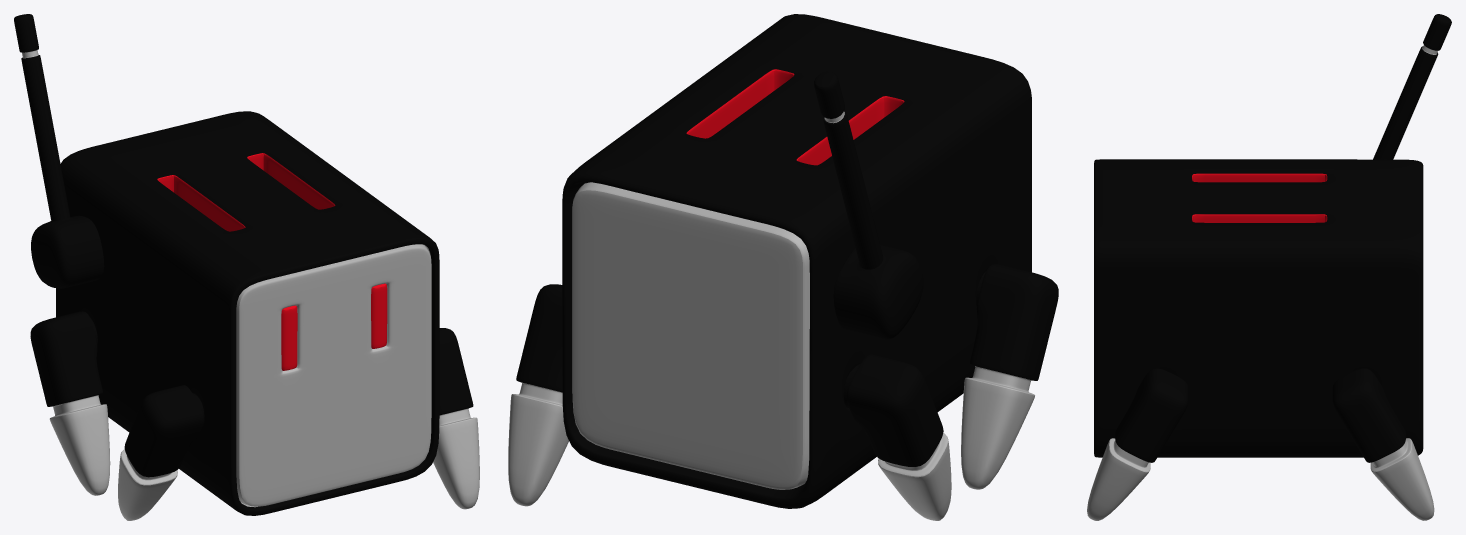
The model's file is Tostadora_Anastasia.fbx.
3 renders of one model, left to right at view 1: azimuth 30°, elevation 25°; view 2: azimuth 150°, elevation 25°; view 3: azimuth 270°, elevation 25°, orthographic. The views are drawn at different scales.
Visible parts, largest first — view 1: Cube, Cube.001, Cube.002, Cube.005, Cube.003; view 2: Cube, Cube.005, Cube.002, Cube.001, Cube.004; view 3: Cube, Cube.004, Cube.003, Cube.002.
Boxes of the visible parts, x1=… form: Cube: x1=56, y1=111, x2=439, y2=515; Cube.001: x1=30, y1=311, x2=110, y2=495; Cube.002: x1=14, y1=14, x2=104, y2=288; Cube.005: x1=118, y1=385, x2=204, y2=520; Cube.003: x1=433, y1=328, x2=479, y2=509; Cube: x1=562, y1=14, x2=1031, y2=508; Cube.005: x1=961, y1=264, x2=1058, y2=489; Cube.002: x1=814, y1=71, x2=923, y2=339; Cube.001: x1=843, y1=354, x2=951, y2=520; Cube.004: x1=508, y1=284, x2=568, y2=506; Cube: x1=1094, y1=159, x2=1423, y2=457; Cube.004: x1=1332, y1=368, x2=1434, y2=520; Cube.003: x1=1087, y1=368, x2=1188, y2=520; Cube.002: x1=1373, y1=14, x2=1451, y2=159.
Bounding box in the file's own units: 147 × 191 × 163.
